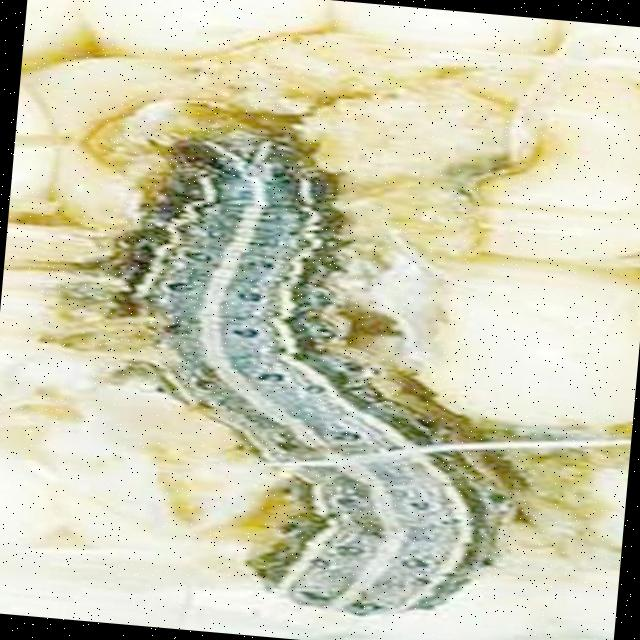worm: (73, 119, 551, 634)
